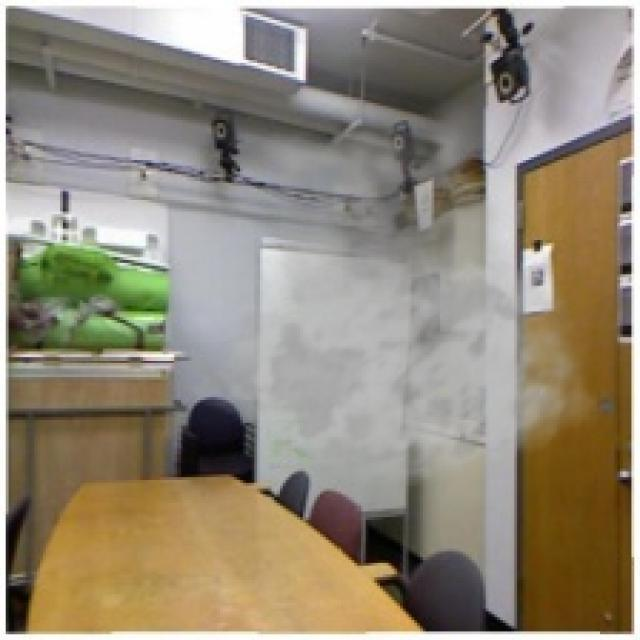Smoke: (182, 91, 598, 488)
